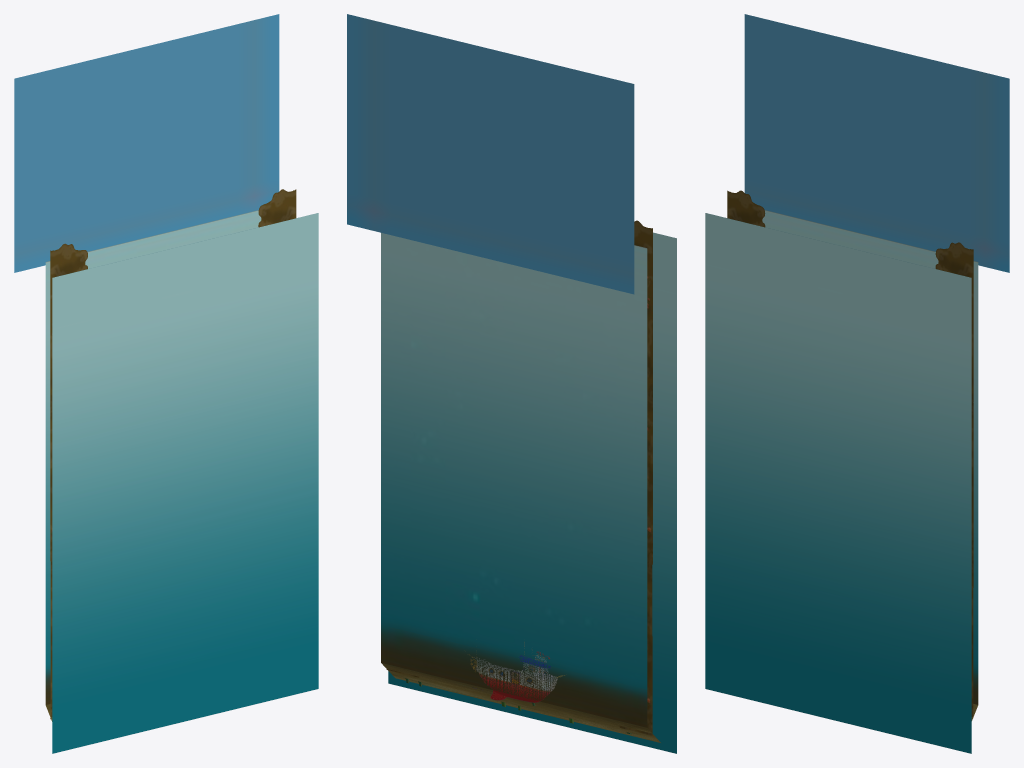
Rendered from diving_game.glb.
3 views of the same model, side by side, from view 1: azimuth 30°, elevation 25°; view 2: azimuth 150°, elevation 25°; view 3: azimuth 330°, elevation 25° (orthographic). The views are drawn at different scales.
Visible parts, largest first — view 1: sea_front, sky, seawater, cliff_a, cliff_b; view 2: seawater, sky, sea_front, cliff_a, boat; view 3: sea_front, sky, seawater, cliff_b, cliff_a.
Boxes of the visible parts, bbox=[...] form: sea_front: bbox=[52, 213, 318, 753]; sky: bbox=[14, 14, 279, 272]; seawater: bbox=[45, 210, 261, 721]; cliff_a: bbox=[50, 243, 87, 719]; cliff_b: bbox=[258, 189, 296, 227]; seawater: bbox=[381, 233, 660, 742]; sky: bbox=[347, 14, 634, 294]; sea_front: bbox=[388, 232, 676, 753]; cliff_a: bbox=[619, 220, 652, 735]; boat: bbox=[469, 642, 564, 702]; sea_front: bbox=[705, 213, 971, 753]; sky: bbox=[744, 14, 1009, 272]; seawater: bbox=[762, 210, 978, 720]; cliff_b: bbox=[935, 242, 973, 717]; cliff_a: bbox=[727, 190, 765, 227].
Size of the model in its own units: 17.63 by 40.87 by 4.43.
20 materials, 20 textured.
